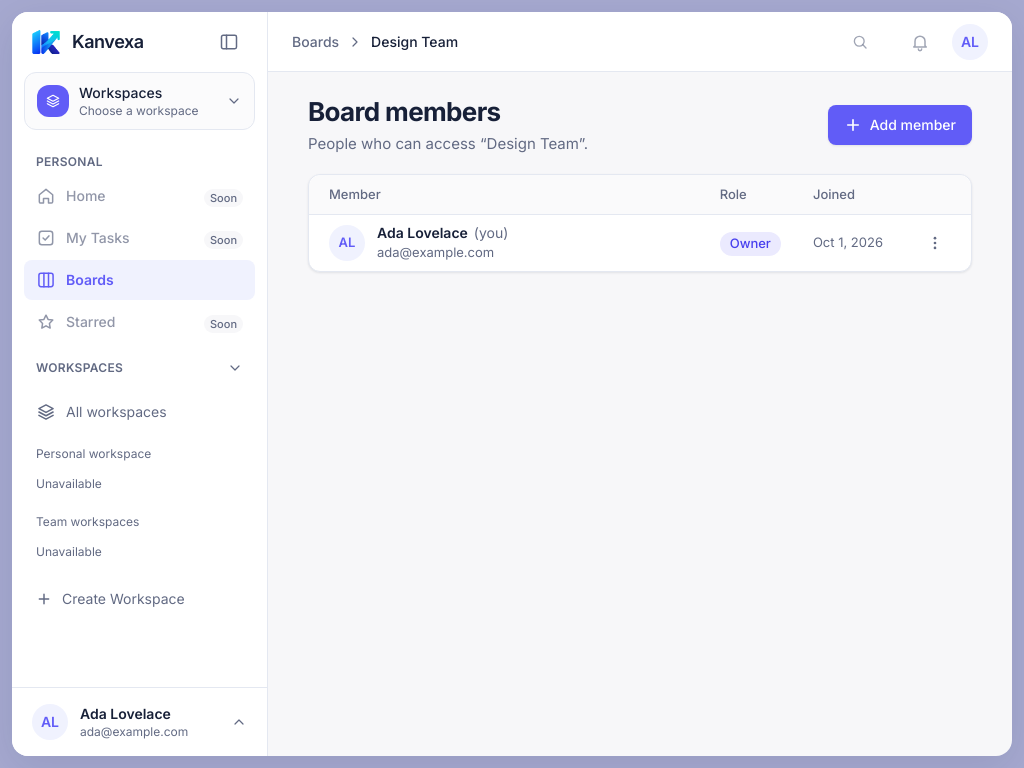
Test: BoardMembersPage (as OWNER) › clears an add-member error once the email is edited
Click the button "Add member". click: [900, 125]
box: [828, 105, 972, 145]
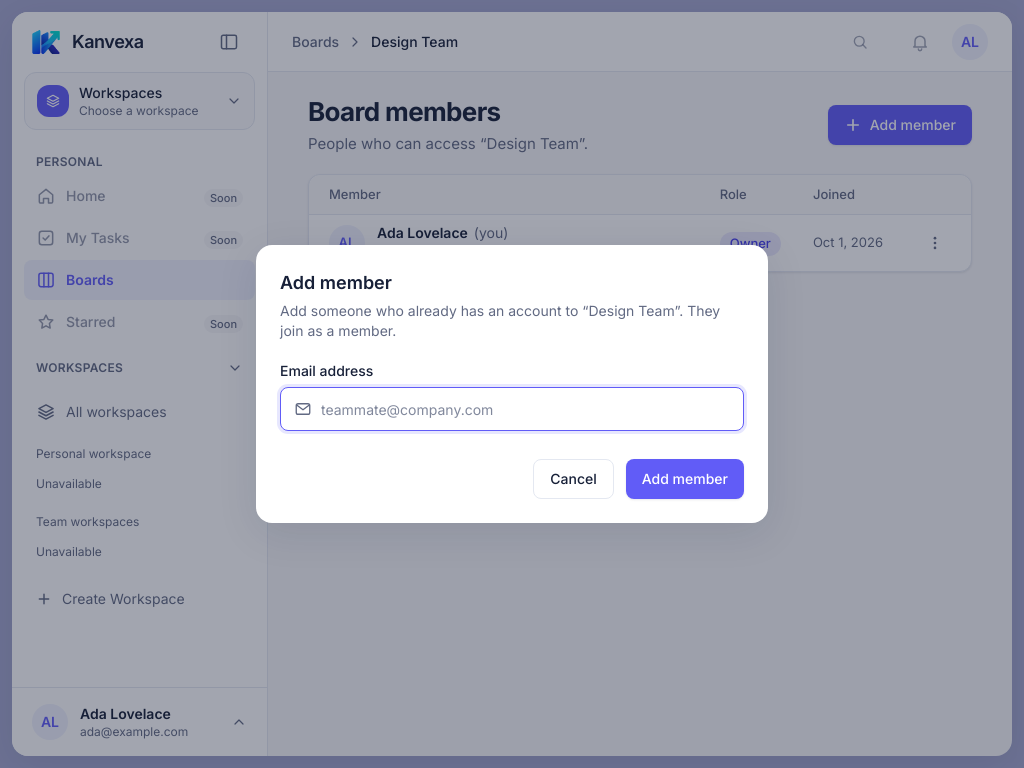
Type "nobody@example.com" into the field labelled "Email address". click: [512, 409]
box: [280, 387, 744, 431]
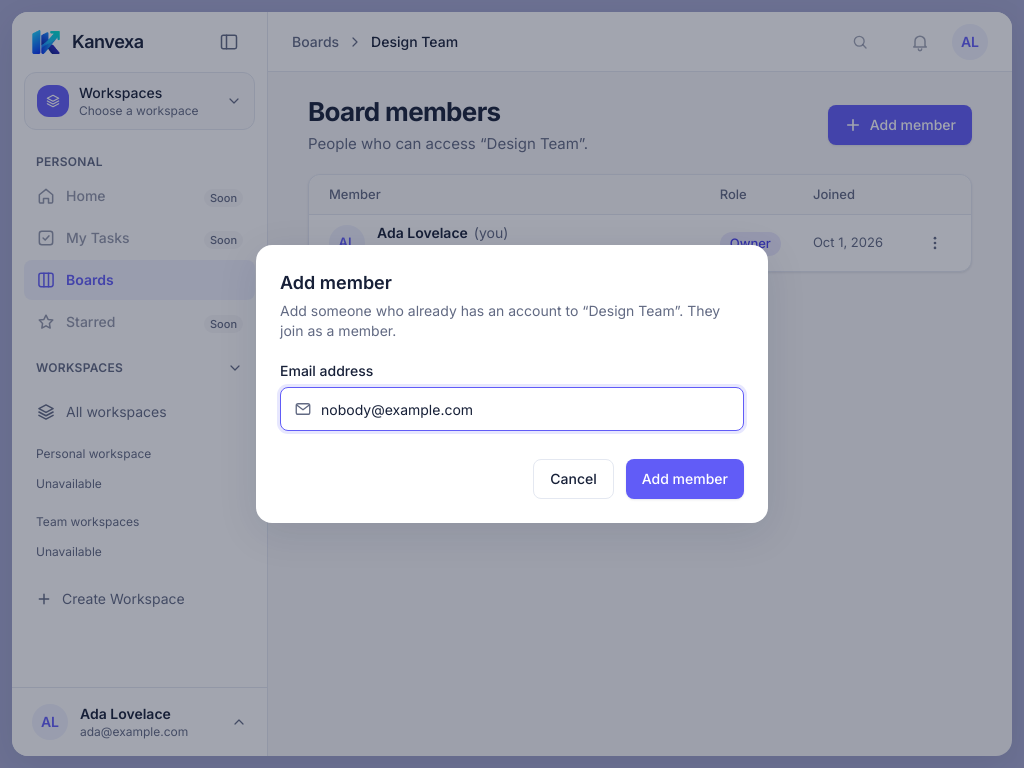
Click the button "Add member". click: [685, 479]
box: [626, 459, 744, 499]
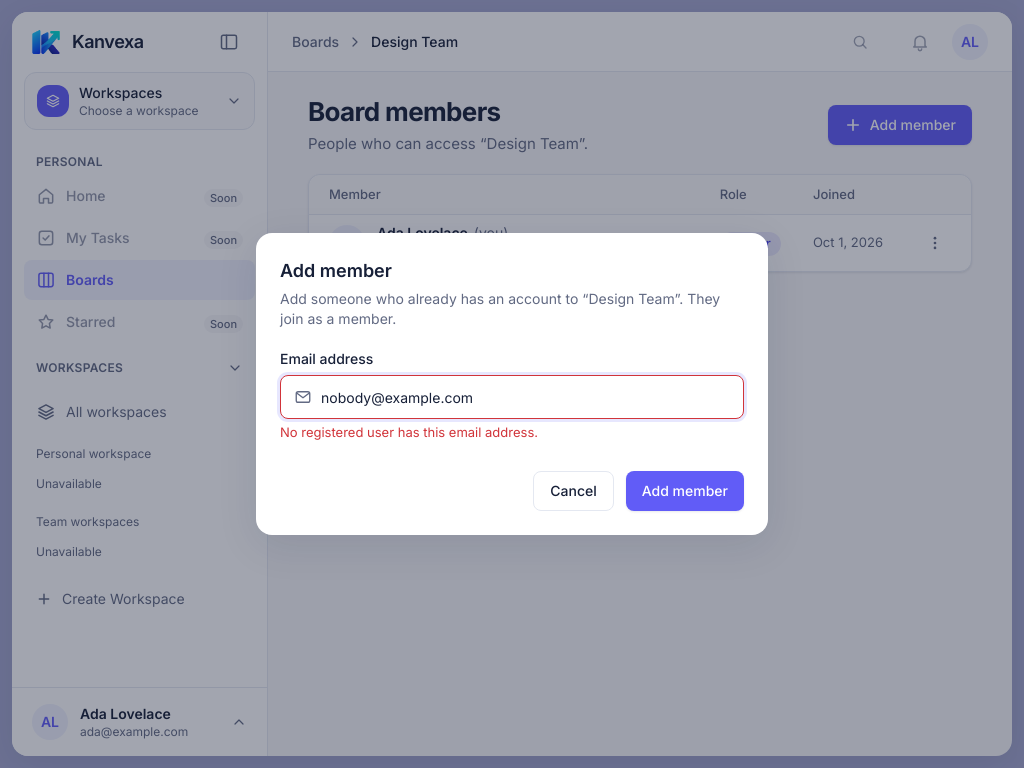
Check: the text "No registered user has this email address." is shown, box [280, 424, 538, 440]
Replace the text in the field labelled "Email address" with "grace@example.com". click: [512, 397]
box: [280, 375, 744, 419]
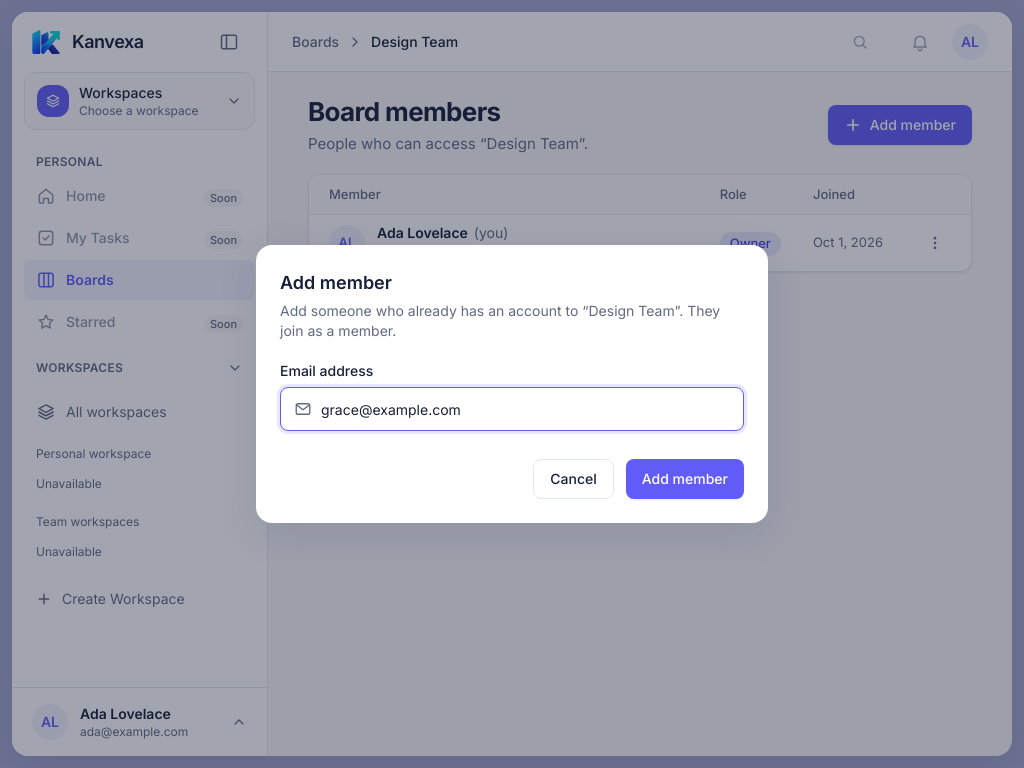
Check: the text "No registered user has this email address." is gone
